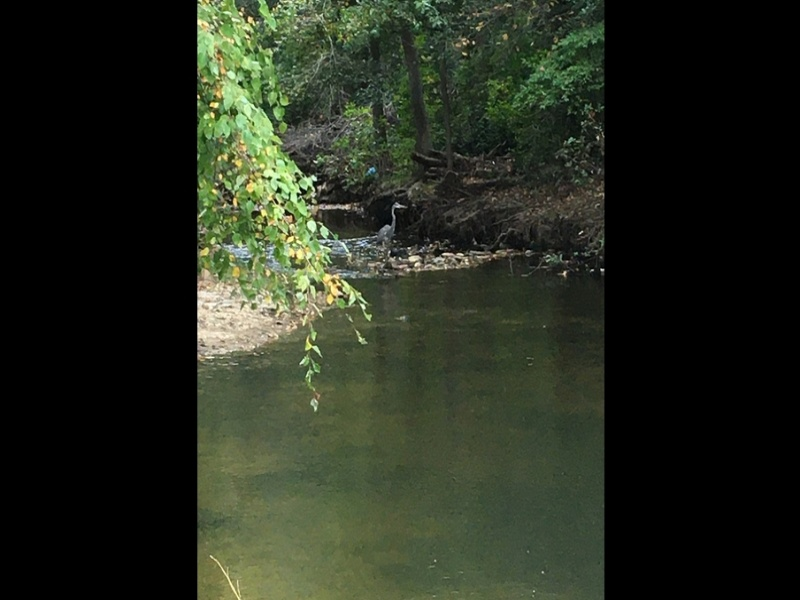heron: (375, 200, 406, 259)
